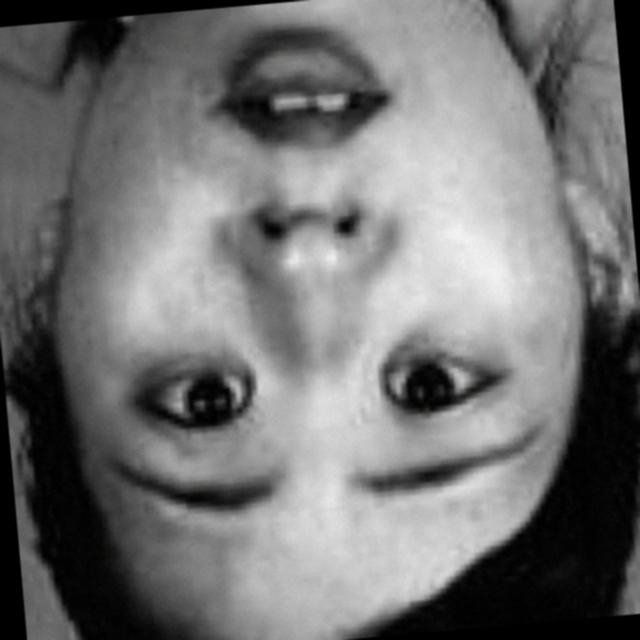fear: (62, 0, 532, 623)
